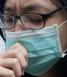with_mask: (1, 1, 67, 77)
